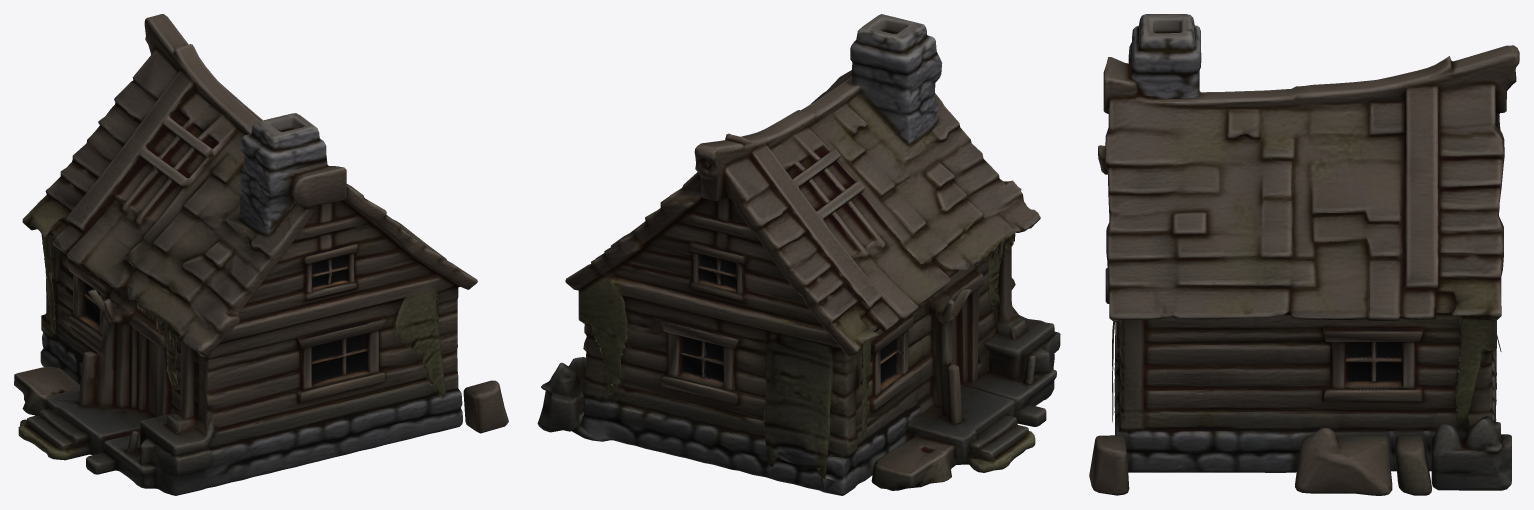
The model's file is 20260729051546_fccde134.fbx.fbx.
3 renders of one model, left to right at view 1: azimuth 30°, elevation 25°; view 2: azimuth 150°, elevation 25°; view 3: azimuth 270°, elevation 25°, orthographic. The views are drawn at different scales.
Visible parts, largest first — view 1: tripo_node_39c06423-3505-4a62-be77-c1d73abb5380; view 2: tripo_node_39c06423-3505-4a62-be77-c1d73abb5380; view 3: tripo_node_39c06423-3505-4a62-be77-c1d73abb5380.
Boxes of the visible parts, box(x1,y1,x2,y2) form: tripo_node_39c06423-3505-4a62-be77-c1d73abb5380: box(14, 14, 508, 495); tripo_node_39c06423-3505-4a62-be77-c1d73abb5380: box(537, 14, 1060, 495); tripo_node_39c06423-3505-4a62-be77-c1d73abb5380: box(1089, 14, 1519, 495).
Size of the model in its own units: 1 by 0.8014 by 0.8589.
